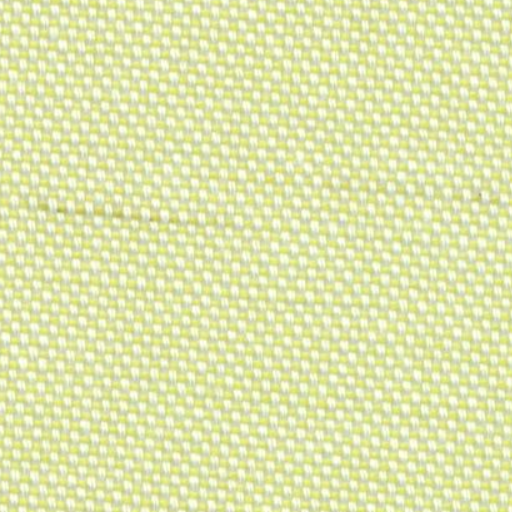WuZi: (44, 180, 192, 238)
